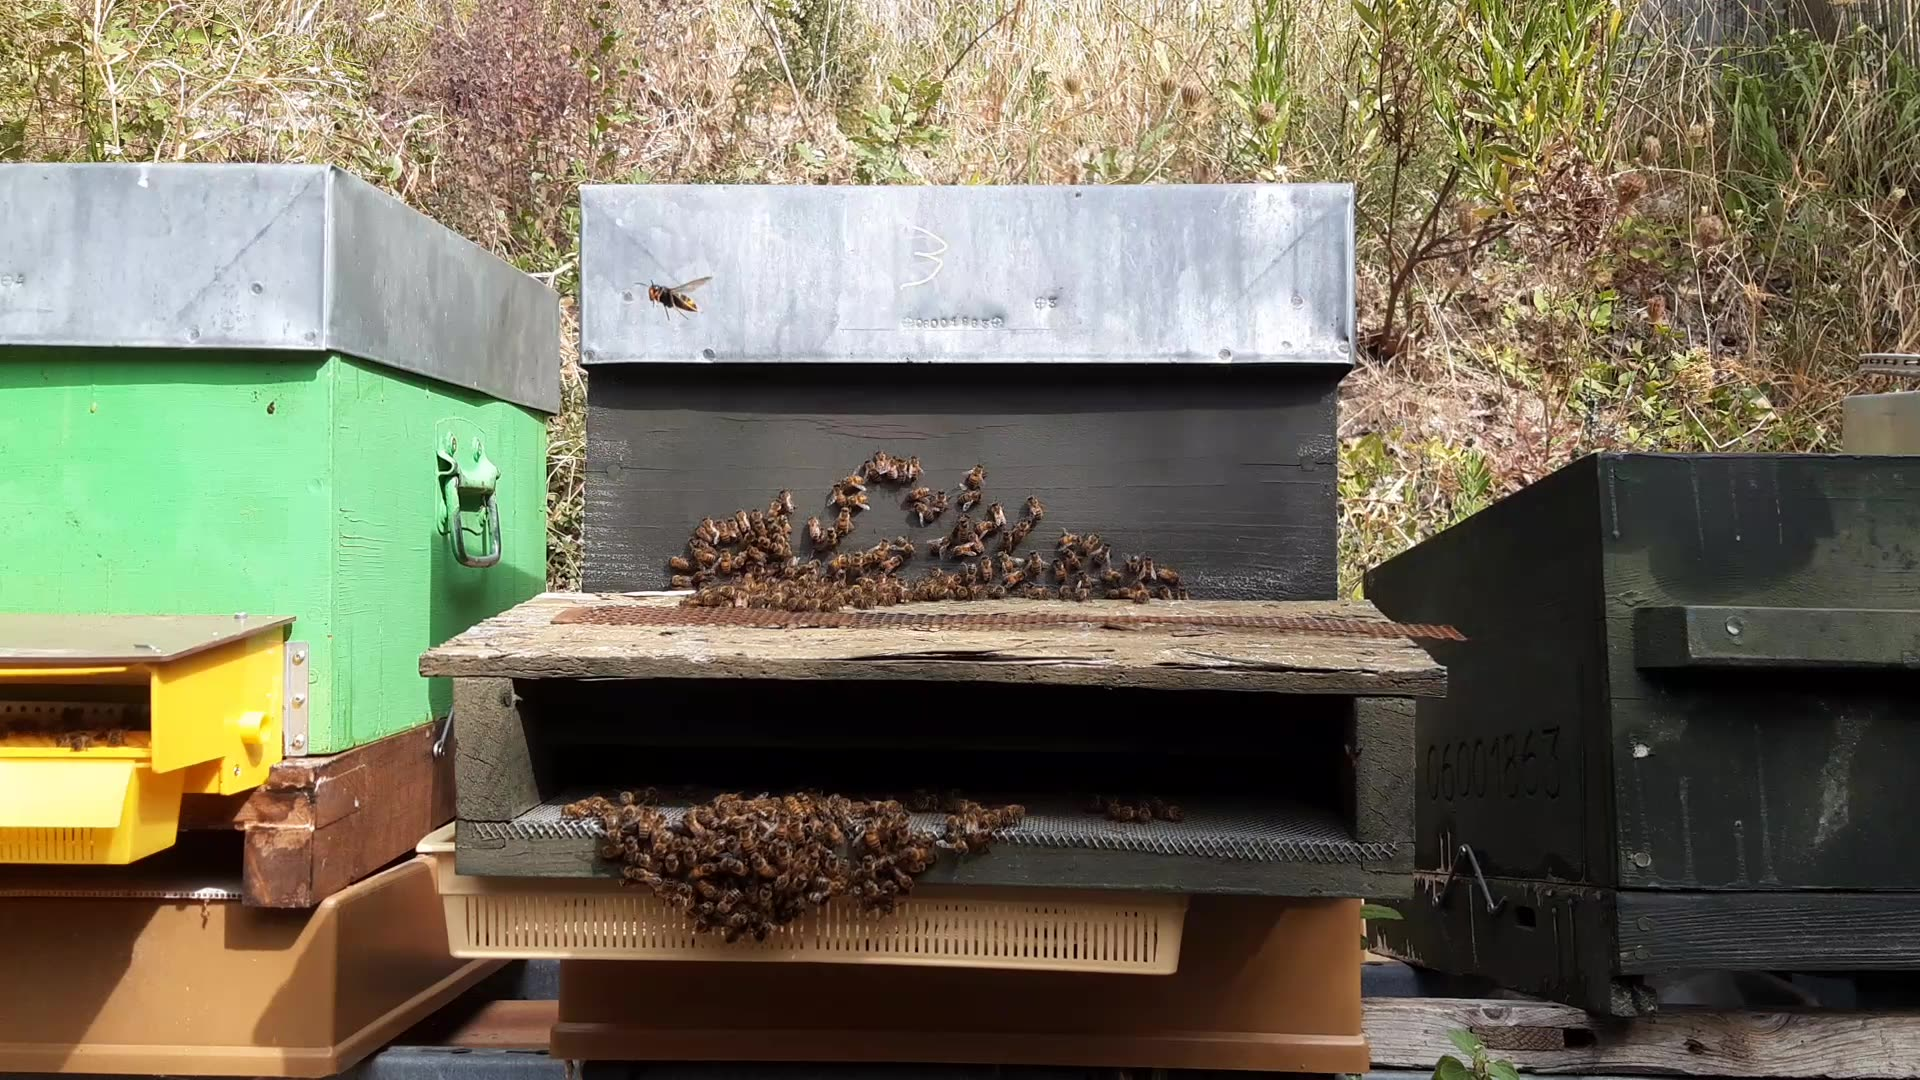bee: (924, 796, 1029, 858), (636, 865, 713, 938), (843, 876, 918, 949), (566, 789, 669, 840), (910, 545, 997, 601), (717, 781, 818, 824), (855, 465, 923, 524), (1346, 318, 1404, 386), (811, 545, 873, 599), (713, 517, 777, 568), (704, 553, 782, 593), (947, 537, 1000, 593), (957, 473, 1010, 526), (791, 491, 848, 533), (1059, 533, 1112, 576), (653, 276, 698, 319)
